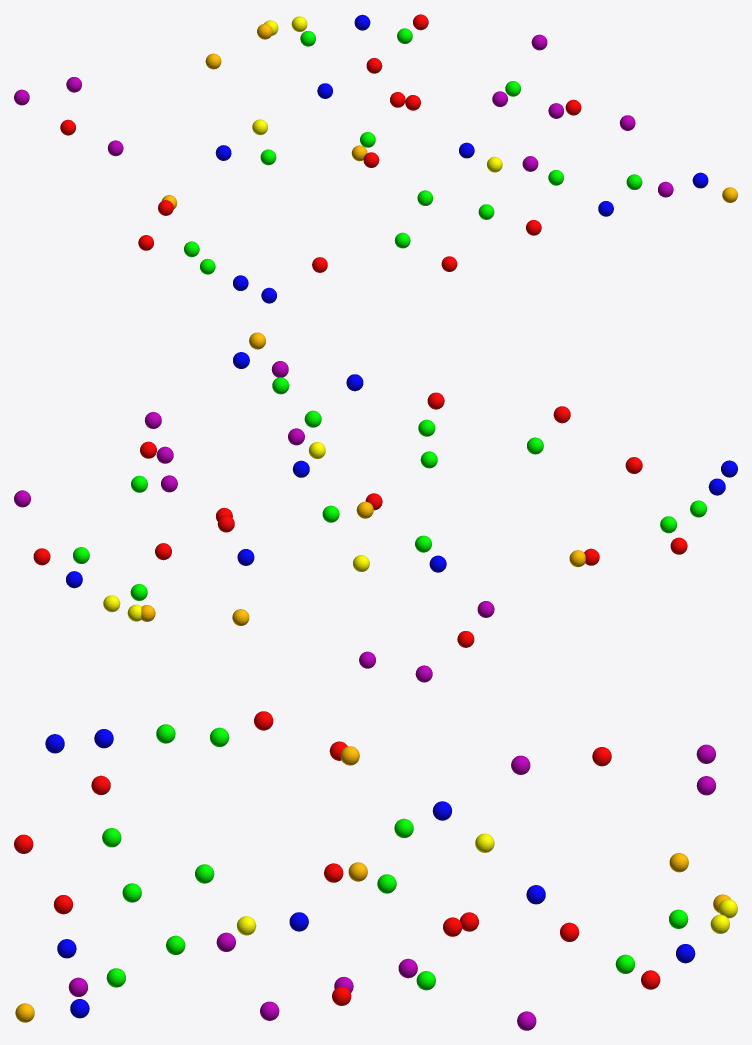
Rendered from sugar_square.glb.
3 views of the same model, one above another, from view 1: azimuth 30°, elevation 25°; view 2: azimuth 150°, elevation 25°; view 3: azimuth 270°, elevation 25° (orthographic). The views are drawn at different scales.
Bounding box in the file's own units: 2.25 × 0.06 × 2.24.
